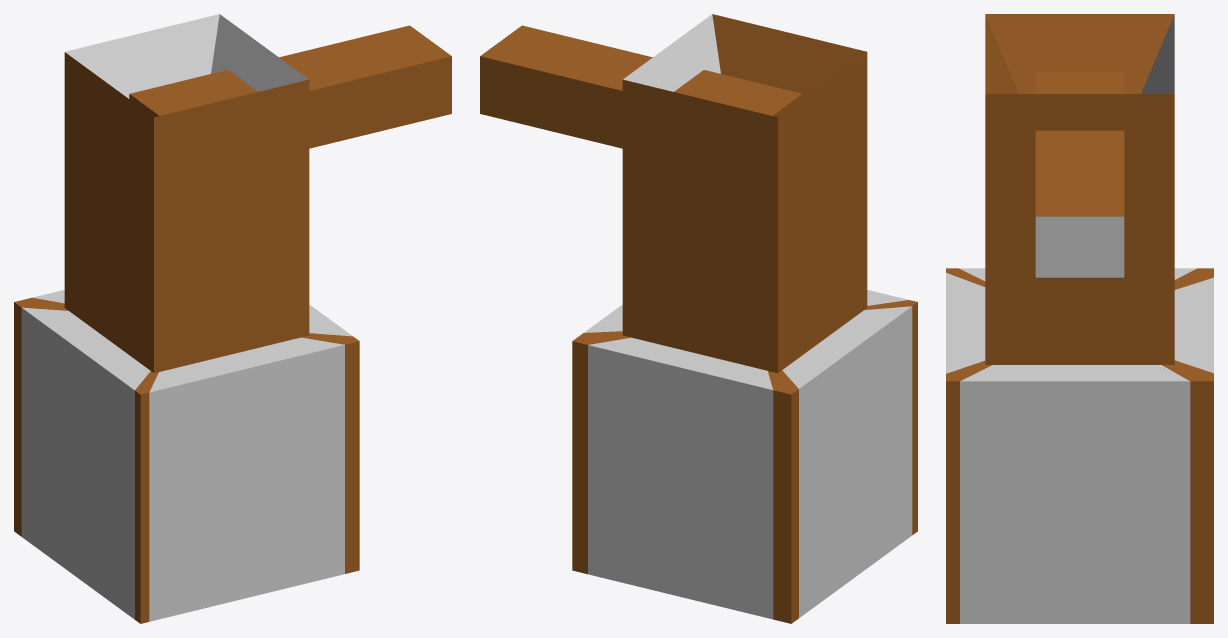
File: windmill_base.fbx
3 renders of one model, left to right at view 1: azimuth 30°, elevation 25°; view 2: azimuth 150°, elevation 25°; view 3: azimuth 270°, elevation 25°, orthographic. The views are drawn at different scales.
Parts seen in each view (by area): view 1: Cube; view 2: Cube; view 3: Cube.
Part boxes in pixels (x1=…): Cube: x1=14, y1=14, x2=451, y2=623; Cube: x1=480, y1=14, x2=917, y2=623; Cube: x1=946, y1=14, x2=1213, y2=623.
Size of the model in its own units: 747 by 980 by 463.
